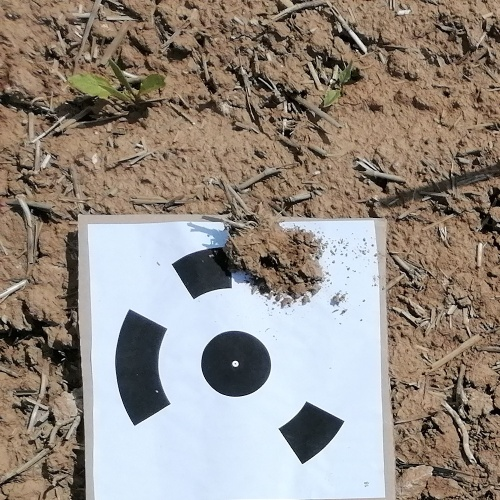beet: (65, 57, 170, 106), (322, 60, 354, 109)
